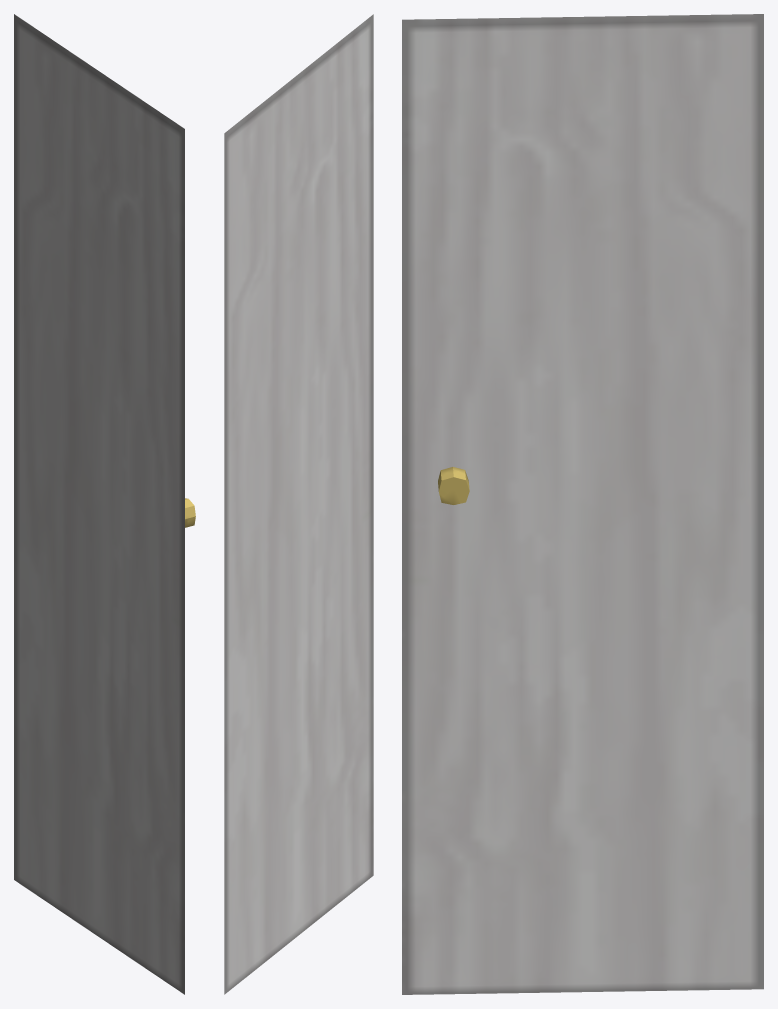
The model's file is Puerta_Sola (1).fbx.
3 views of the same model, side by side, from view 1: azimuth 30°, elevation 25°; view 2: azimuth 150°, elevation 25°; view 3: azimuth 270°, elevation 25° (orthographic). The views are drawn at different scales.
Parts seen in each view (by area): view 1: Cube.003; view 2: Cube.003; view 3: Cube.003.
Part boxes in pixels (x1,y1,x2,y2): Cube.003: (14, 14, 195, 994); Cube.003: (224, 14, 373, 994); Cube.003: (402, 14, 763, 994).
Bounding box in the file's own units: 15.51 × 342 × 115.
1 material, 1 textured.
